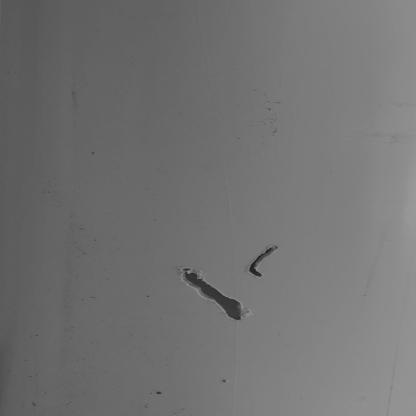fengxi: (179, 267, 245, 320), (248, 245, 278, 279)
